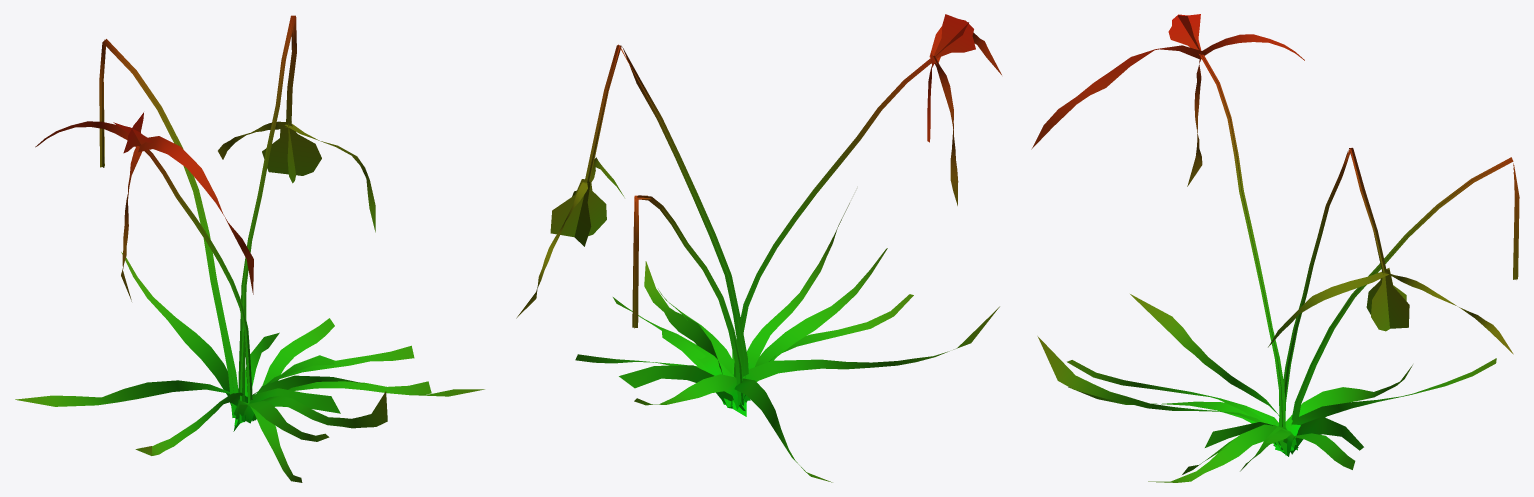
File: S_Dense_Flat-sedge_tgcnee1r_Var5_lod0.FBX
3 renders of one model, left to right at view 1: azimuth 30°, elevation 25°; view 2: azimuth 150°, elevation 25°; view 3: azimuth 270°, elevation 25°, orthographic. The views are drawn at different scales.
Visible parts, largest first — view 1: S_Dense_Flat-sedge_tgcnee1r_Var5_lod0_LOD0; view 2: S_Dense_Flat-sedge_tgcnee1r_Var5_lod0_LOD0; view 3: S_Dense_Flat-sedge_tgcnee1r_Var5_lod0_LOD0.
Part boxes in pixels (x1,y1,x2,y2): S_Dense_Flat-sedge_tgcnee1r_Var5_lod0_LOD0: [15, 15, 484, 482]; S_Dense_Flat-sedge_tgcnee1r_Var5_lod0_LOD0: [516, 14, 1001, 482]; S_Dense_Flat-sedge_tgcnee1r_Var5_lod0_LOD0: [1031, 14, 1519, 482].
Size of the model in its own units: 18.13 by 22.19 by 18.64.
